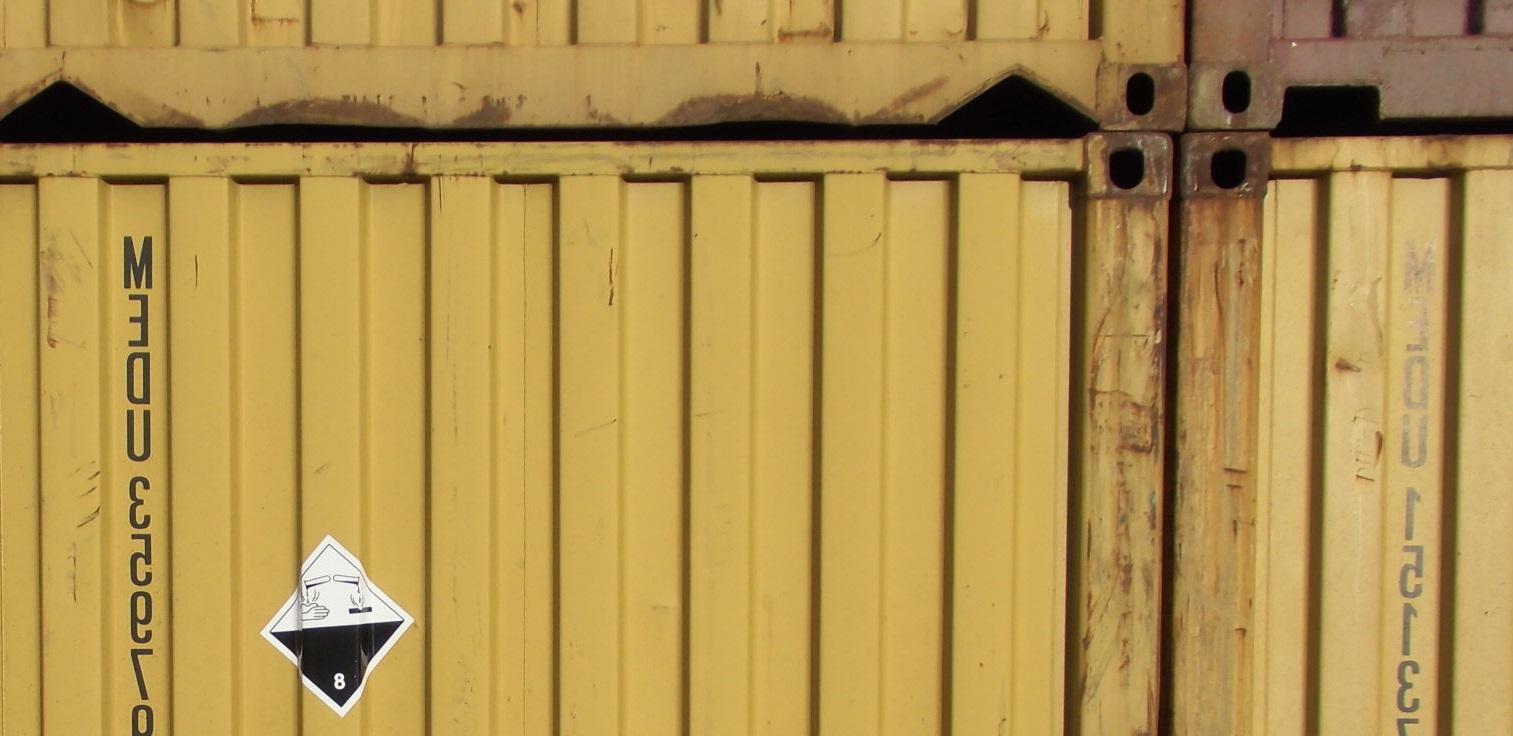container_no_door: (6, 136, 1180, 731)
